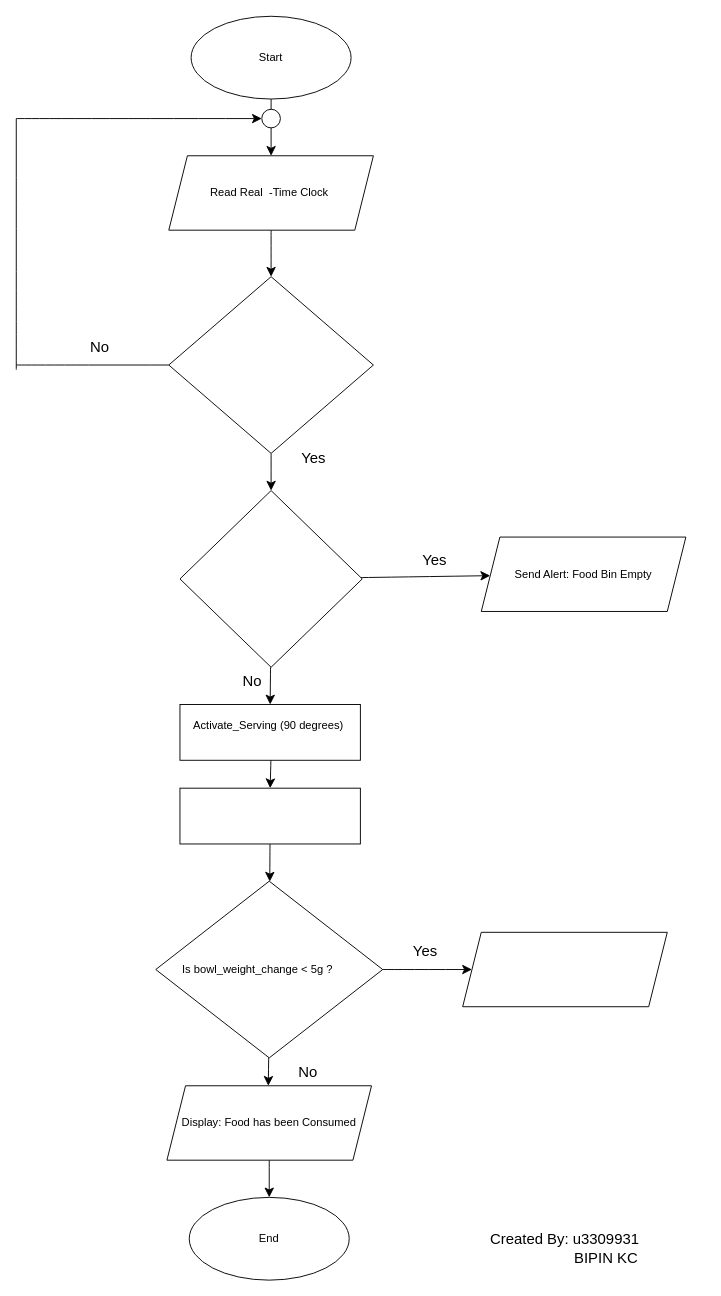
This 721x1296 diagram has some shape labels left out. The shapes that lost their labels are listed below. From the top down, each one's centre as x and y in pixels, then its label:
At point (270, 364): "Is Current_Time = Feed Time ?".
At point (270, 578): "Is food_bin_sensor = Empty ?".
At point (269, 815): "Wait: 10 mins".
At point (564, 969): "Send Alert: Food has not been consumed".
